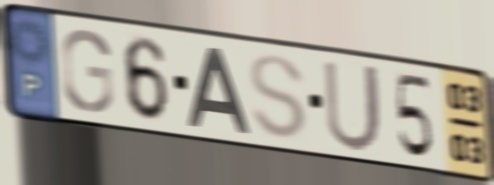5: (392, 69, 436, 160)
6: (120, 33, 171, 126)
A: (184, 44, 253, 137)
G: (58, 26, 116, 116)
S: (246, 50, 310, 143)
U: (320, 56, 385, 156)
